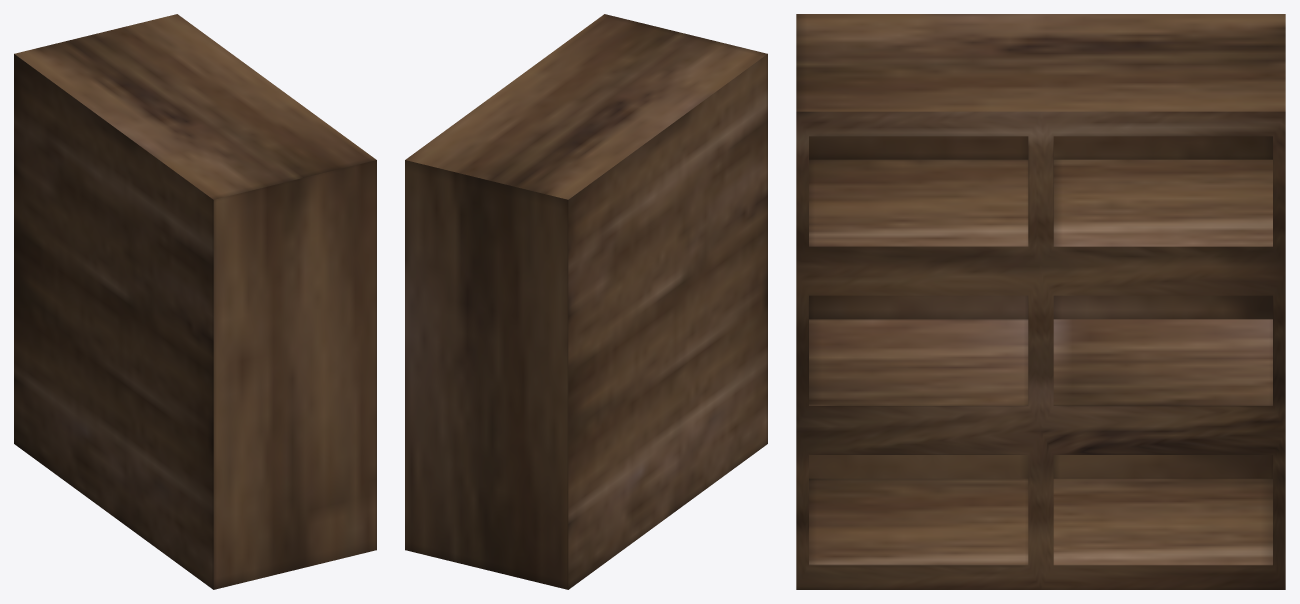
File: ChestOfDrawers.fbx
The picture shows the model from 3 angles, left to right: view 1: azimuth 30°, elevation 25°; view 2: azimuth 150°, elevation 25°; view 3: azimuth 270°, elevation 25°; orthographic projection. The views are drawn at different scales.
Parts seen in each view (by area): view 1: Cube; view 2: Cube; view 3: Cube.
Boxes of the visible parts, left/top/right/bottom form: Cube: left=14, top=14, right=376, bottom=589; Cube: left=405, top=14, right=767, bottom=589; Cube: left=796, top=14, right=1285, bottom=589.
Bounding box in the file's own units: 70 × 160 × 148.
1 material, 1 textured.
